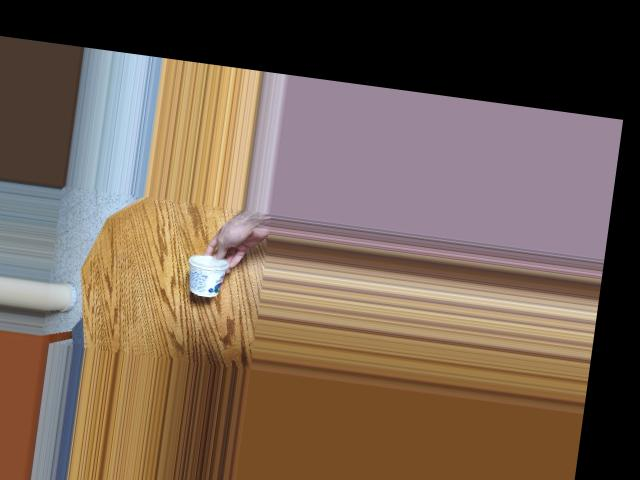cotage: (181, 245, 227, 292)
